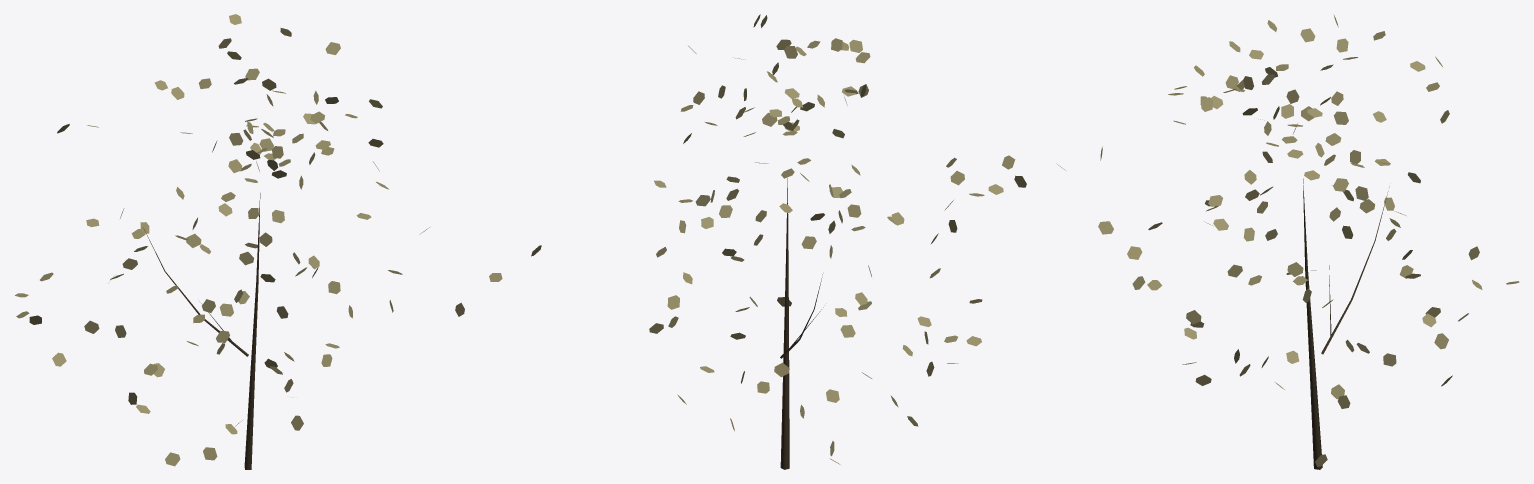
Rendered from bush-tree-003-lod1.glb.
3 renders of one model, left to right at view 1: azimuth 30°, elevation 25°; view 2: azimuth 150°, elevation 25°; view 3: azimuth 270°, elevation 25°, orthographic. The views are drawn at different scales.
Visible parts, largest first — view 1: v_tree.003; view 2: v_tree.003; view 3: v_tree.003.
Boxes of the visible parts, left/top/right/bottom form: v_tree.003: left=15, top=14, right=502, bottom=469; v_tree.003: left=531, top=14, right=1026, bottom=469; v_tree.003: left=1056, top=14, right=1519, bottom=469.
Bounding box in the file's own units: 3.65 × 3.77 × 3.49.
